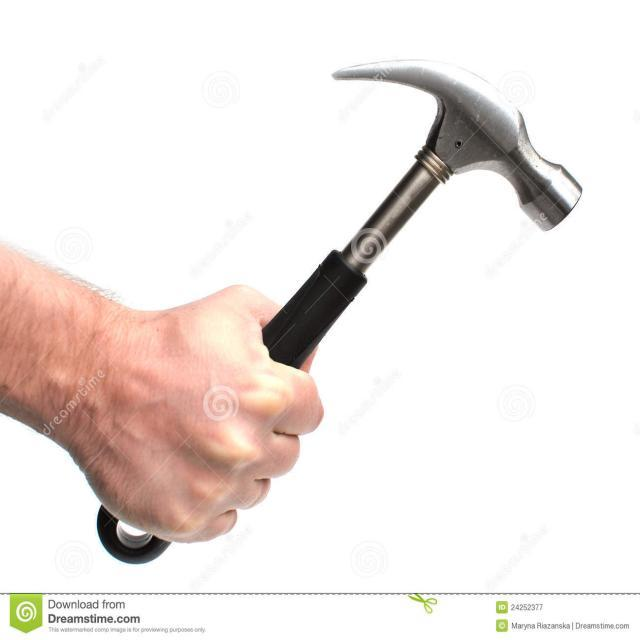hammer: (83, 43, 584, 570)
